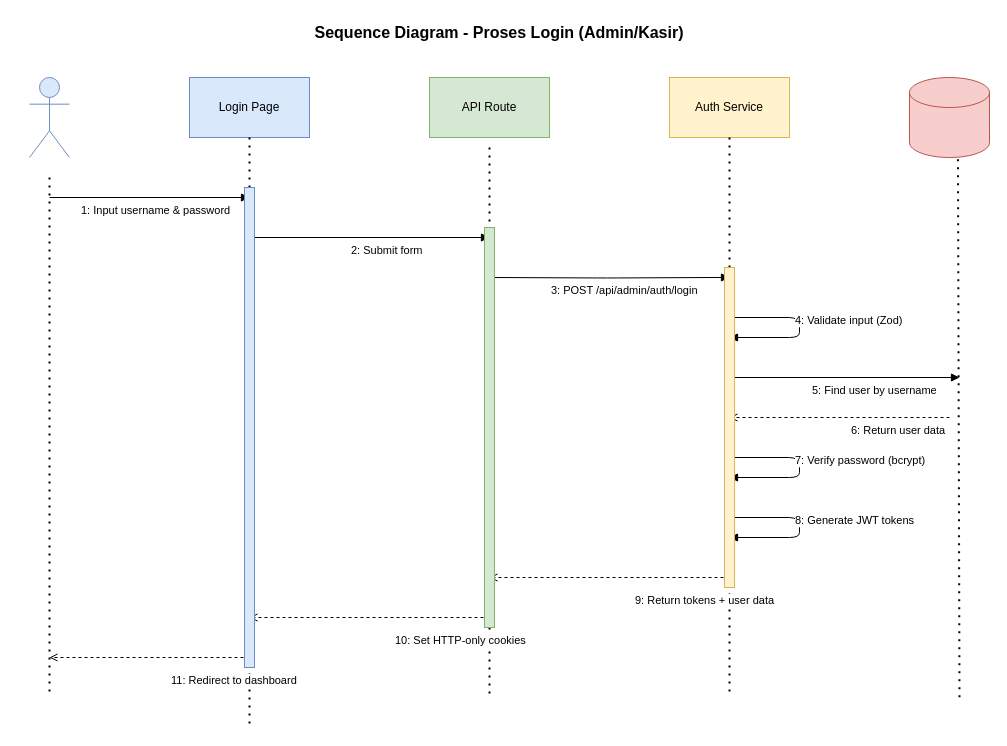
This 1007x746 diagram has some shape labels left out. Each missing label, with the box of its shape:
Admin/Kasir: (28, 76, 70, 158)
Database: (908, 76, 990, 158)
